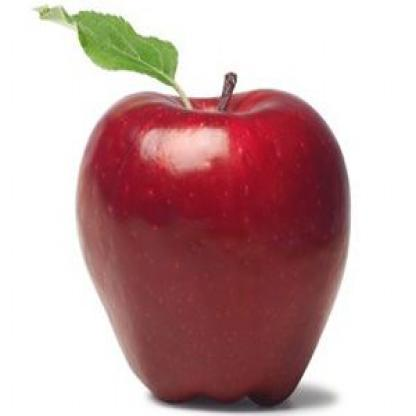apple: (68, 83, 355, 414)
